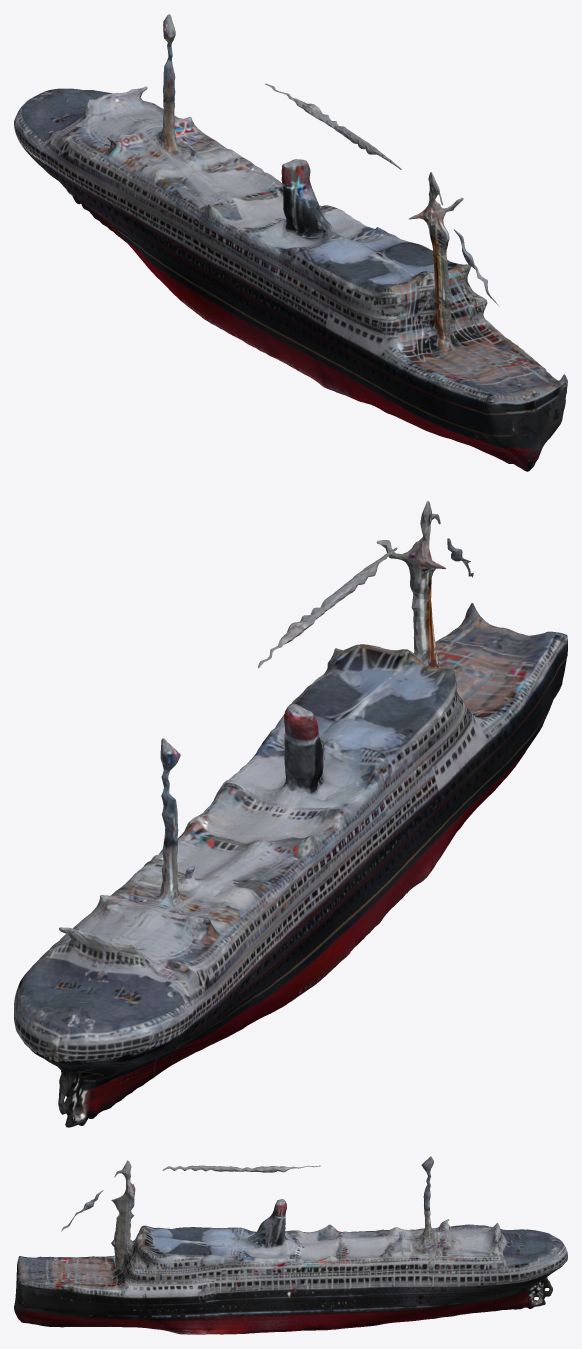
File: City of Chattanooga - a_detailed_realistic_model_of_a_vintage_passenger_steamship_the_ship_features_a_prominent_red_hull.glb
3 renders of one model, top to bottom at view 1: azimuth 30°, elevation 25°; view 2: azimuth 150°, elevation 25°; view 3: azimuth 270°, elevation 25°, orthographic. The views are drawn at different scales.
Parts seen in each view (by area): view 1: geometry_0; view 2: geometry_0; view 3: geometry_0.
Part boxes in pixels (bbox=[...]): geometry_0: bbox=[14, 14, 567, 471]; geometry_0: bbox=[14, 500, 567, 1127]; geometry_0: bbox=[14, 1156, 567, 1334].
Bounding box in the file's own units: 0.2337 × 0.3282 × 1.01.
Materials: 1 (1 with a texture image).
